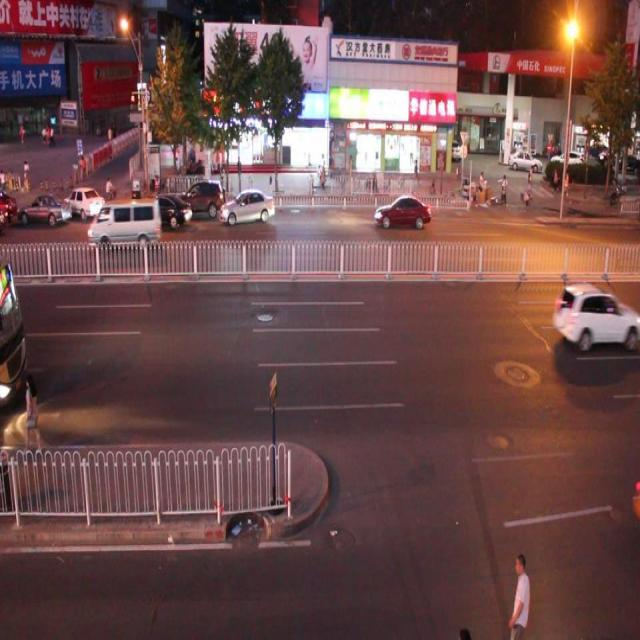car: (557, 281, 640, 363), (89, 202, 160, 250), (375, 188, 435, 237), (219, 189, 277, 227), (21, 191, 70, 233), (68, 181, 100, 222), (512, 145, 542, 177)
